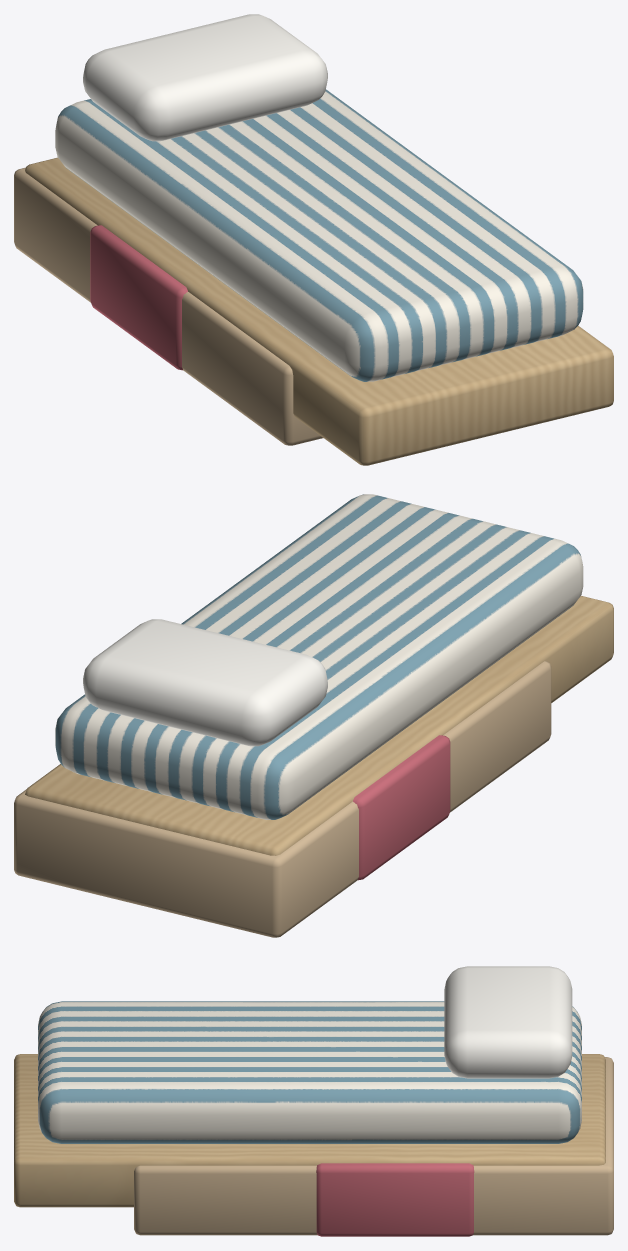
Rendered from sc_bed_v2.glb.
3 views of the same model, one above another, from view 1: azimuth 30°, elevation 25°; view 2: azimuth 150°, elevation 25°; view 3: azimuth 270°, elevation 25° (orthographic). The views are drawn at different scales.
Parts seen in each view (by area): view 1: sc_bed; view 2: sc_bed; view 3: sc_bed.
Part boxes in pixels (x1,y1,x2,y2): sc_bed: [14, 14, 613, 465]; sc_bed: [14, 494, 613, 937]; sc_bed: [14, 966, 613, 1236].
Bounding box in the file's own units: 0.86 × 0.6267 × 1.88.
1 material, 1 textured.
